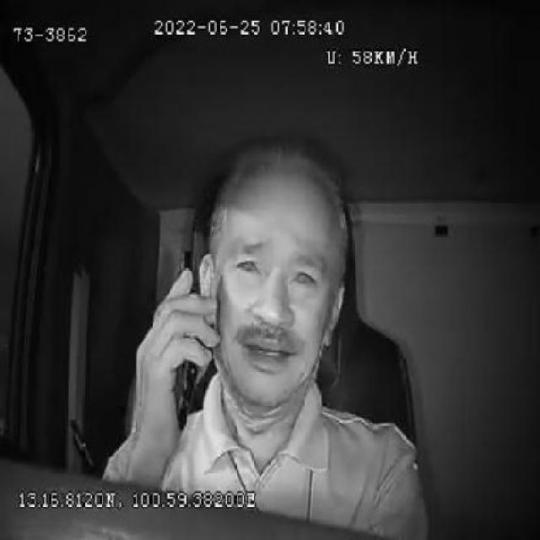phone: (165, 246, 206, 433)
